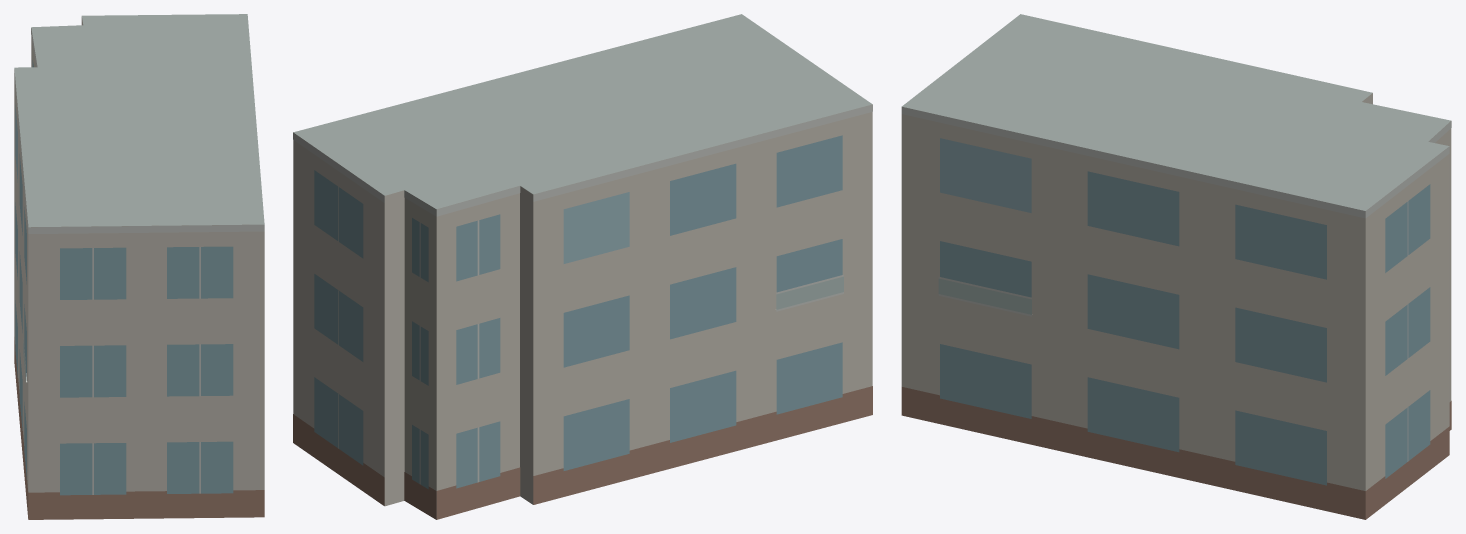
File: survey-upis-32846122.glb
The picture shows the model from 3 angles, left to right: view 1: azimuth 30°, elevation 25°; view 2: azimuth 150°, elevation 25°; view 3: azimuth 270°, elevation 25°; orthographic projection. The views are drawn at different scales.
Visible parts, largest first — view 1: survey-upis-32846122.tmp; view 2: survey-upis-32846122.tmp; view 3: survey-upis-32846122.tmp.
Boxes of the visible parts, x1=… form: survey-upis-32846122.tmp: x1=14, y1=14, x2=264, y2=519; survey-upis-32846122.tmp: x1=293, y1=14, x2=872, y2=519; survey-upis-32846122.tmp: x1=901, y1=14, x2=1451, y2=519.
Bounding box in the file's own units: 13.97 × 10.2 × 16.47.
